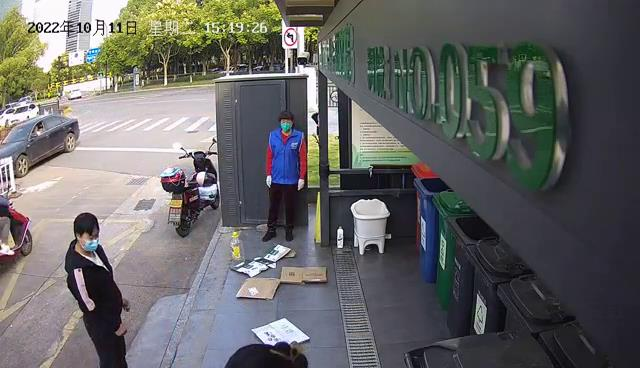person: (63, 212, 131, 368)
suliaozhipin: (230, 230, 247, 271)
worker: (261, 110, 307, 243)
zhizhipin: (230, 244, 295, 277), (250, 316, 311, 347), (234, 276, 281, 301), (279, 264, 328, 286)
